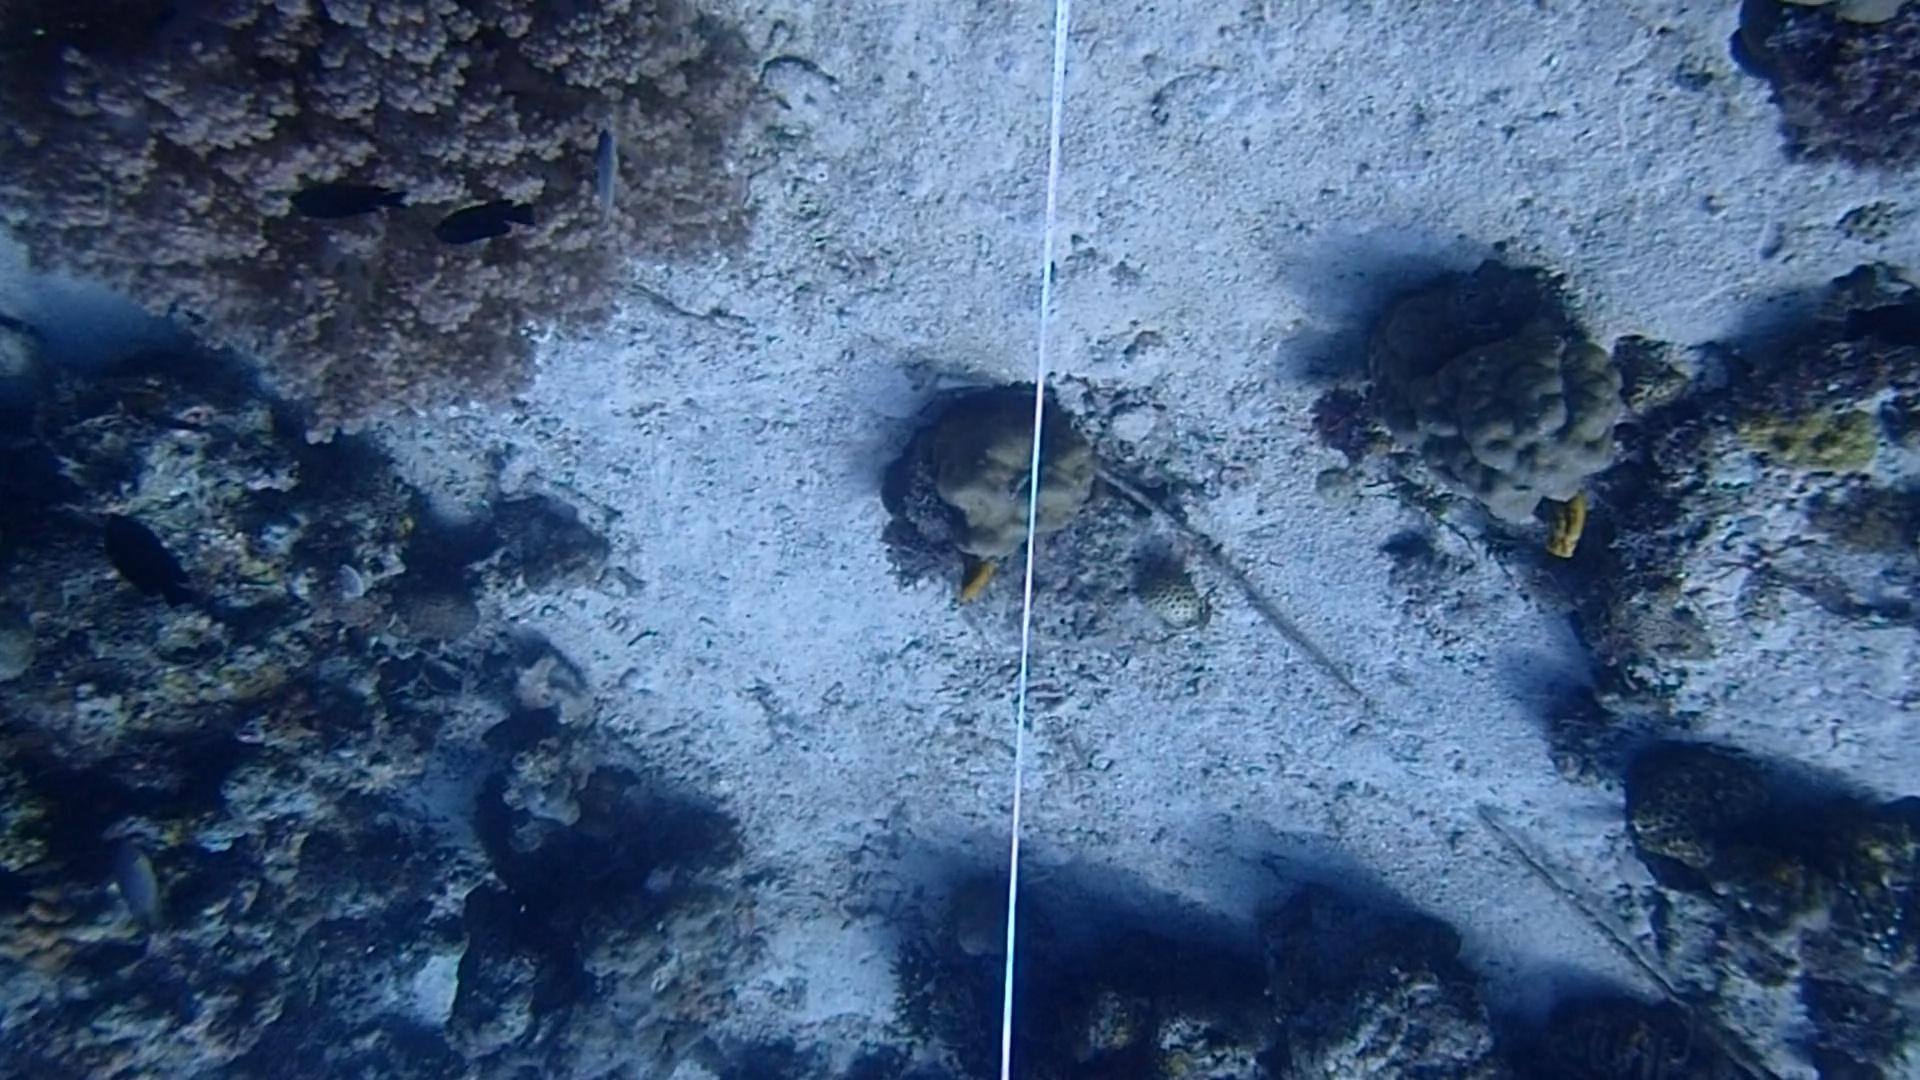Dark Fish: (94, 505, 193, 607), (423, 191, 541, 257), (282, 173, 404, 229), (1844, 291, 1920, 353), (0, 851, 44, 927)
Light Fish: (103, 841, 179, 938), (575, 111, 636, 225)
